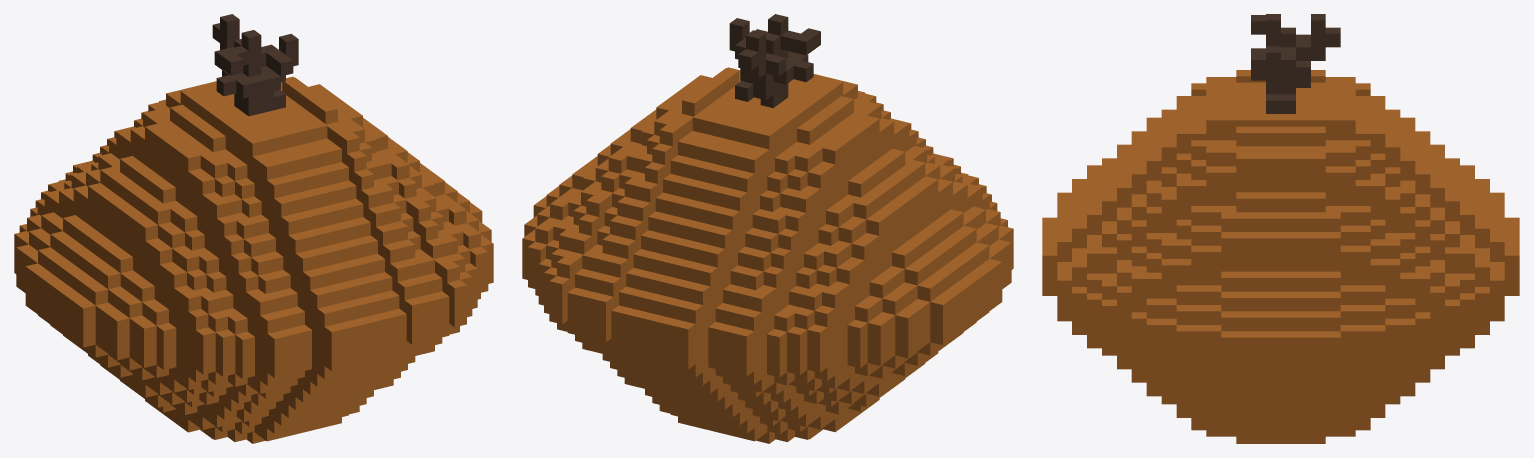
The model's file is NewCutedOnion.obj.
3 renders of one model, left to right at view 1: azimuth 30°, elevation 25°; view 2: azimuth 150°, elevation 25°; view 3: azimuth 270°, elevation 25°, orthographic. The views are drawn at different scales.
Size of the model in its own units: 3.2 by 2.9 by 3.2.
1 material, 1 textured.
